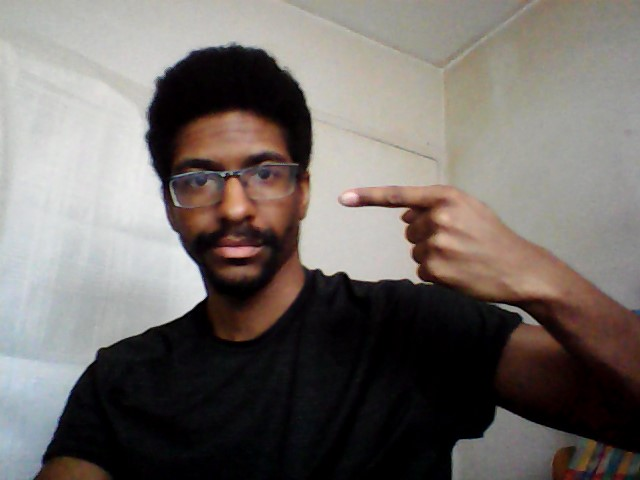g: (335, 183, 547, 310)
